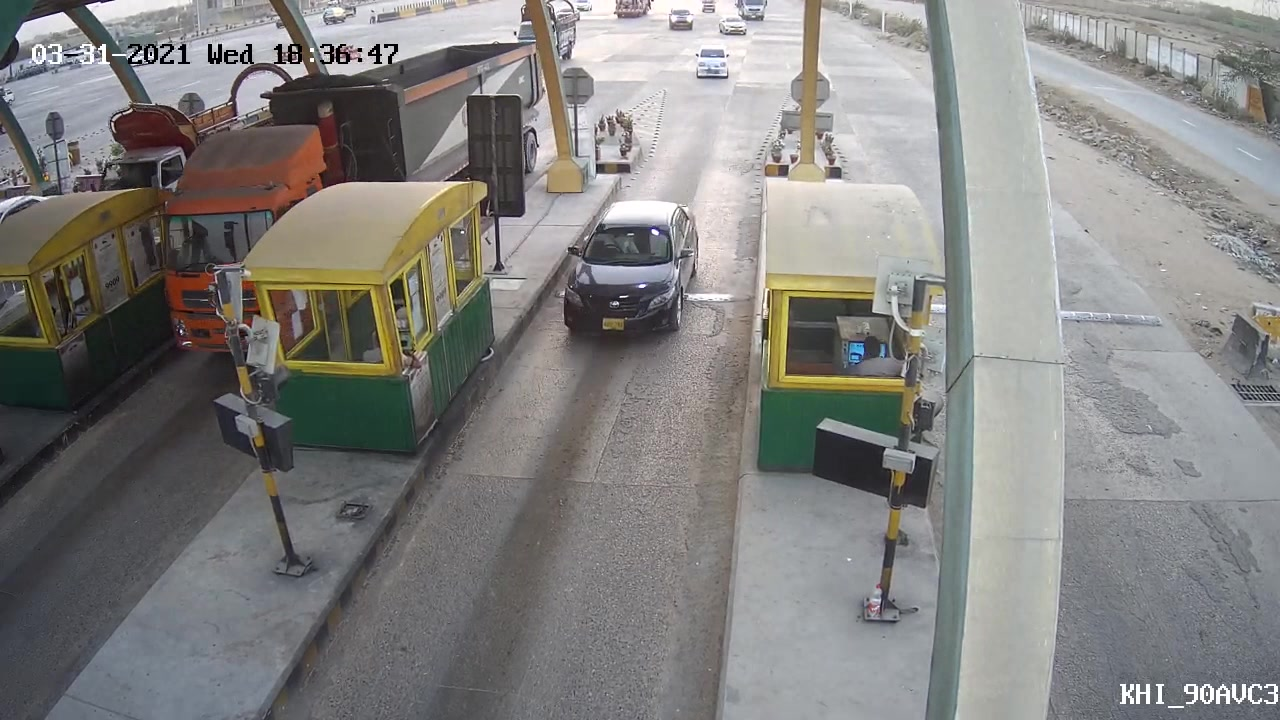F1: (547, 188, 716, 352)
